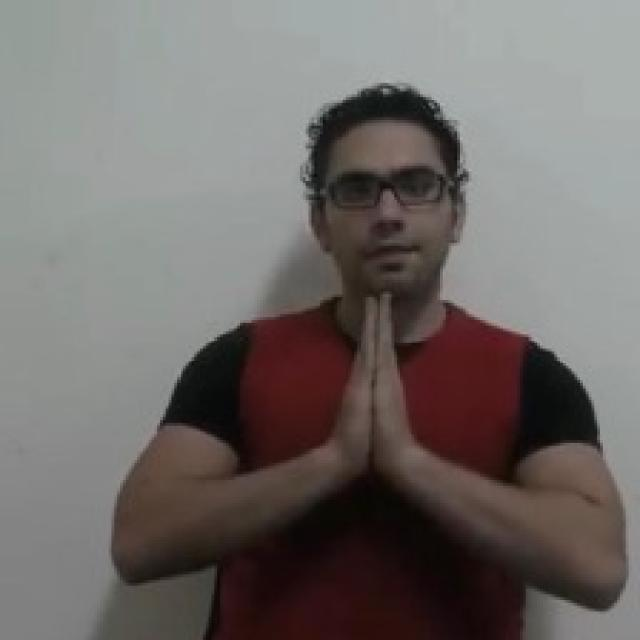sorry: (331, 288, 416, 484)
